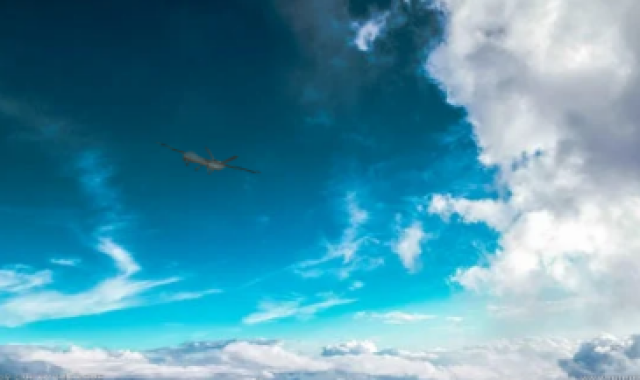military drone: (155, 140, 261, 176)
